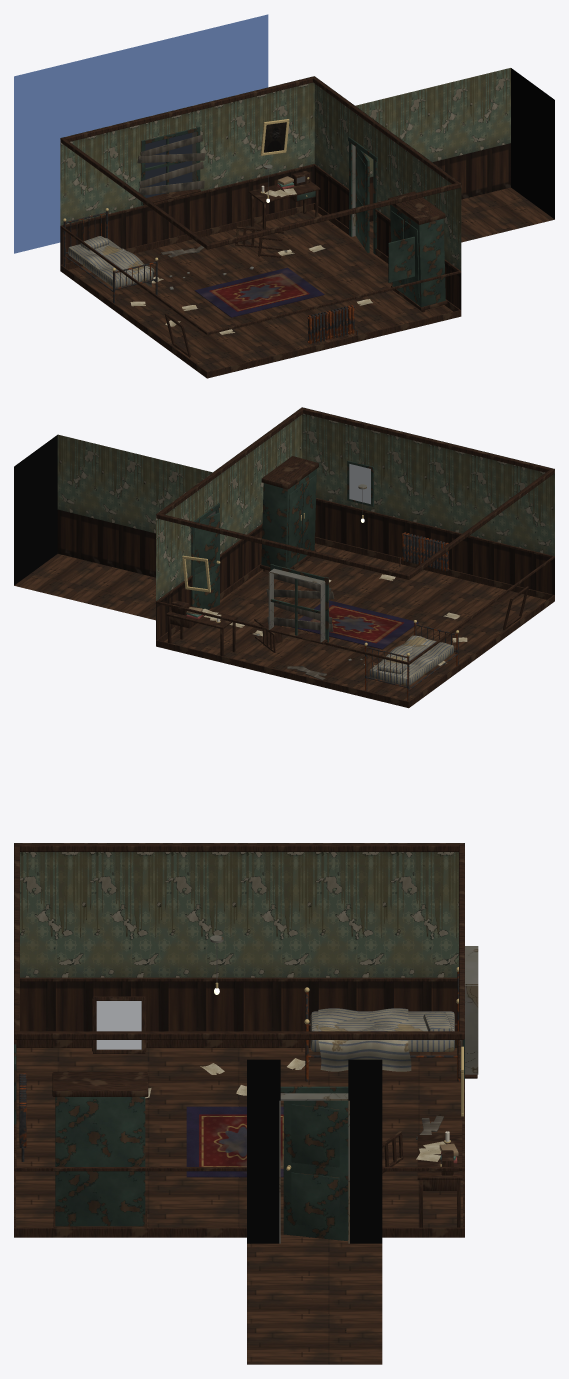
File: horror_room.web.glb
The picture shows the model from 3 angles, top to bottom: view 1: azimuth 30°, elevation 25°; view 2: azimuth 150°, elevation 25°; view 3: azimuth 270°, elevation 25°; orthographic projection. The views are drawn at different scales.
Visible parts, largest first — view 1: Window, Floor, Wall_Back, Hallway, Trim, Wall_Right, Wardrobe, Rug, Bed, Window_Boards, Radiator, Door (+7 smaller); view 2: Wall_Front, Hallway, Floor, Trim, Wall_Right, Wardrobe, Bed, Rug, Window, Door, Window_Boards, Radiator (+5 smaller); view 3: Wall_Left, Floor, Hallway, Trim, Wardrobe, Door, Bed, Rug, Frame_Fallen, Window, Desk, Door_Frame (+2 smaller).
Boxes of the visible parts, x1=… form: Window: x1=14, y1=14, x2=268, y2=253; Floor: x1=68, y1=210, x2=452, y2=375; Wall_Back: x1=60, y1=76, x2=314, y2=264; Hallway: x1=353, y1=68, x2=554, y2=251; Trim: x1=60, y1=76, x2=461, y2=378; Wall_Right: x1=314, y1=76, x2=461, y2=309; Wardrobe: x1=388, y1=191, x2=447, y2=312; Rug: x1=194, y1=267, x2=324, y2=317; Bed: x1=63, y1=208, x2=158, y2=303; Window_Boards: x1=137, y1=135, x2=205, y2=195; Radiator: x1=307, y1=305, x2=357, y2=344; Door: x1=355, y1=147, x2=369, y2=252; Wall_Front: x1=302, y1=407, x2=554, y2=594; Hallway: x1=14, y1=434, x2=212, y2=620; Floor: x1=164, y1=543, x2=547, y2=701; Trim: x1=156, y1=407, x2=554, y2=707; Wall_Right: x1=156, y1=407, x2=301, y2=639; Wardrobe: x1=260, y1=456, x2=318, y2=571; Bed: x1=364, y1=620, x2=458, y2=701; Rug: x1=292, y1=600, x2=418, y2=649; Window: x1=267, y1=564, x2=329, y2=644; Door: x1=194, y1=512, x2=220, y2=609; Window_Boards: x1=266, y1=574, x2=334, y2=631; Radiator: x1=399, y1=532, x2=449, y2=571; Wall_Left: x1=14, y1=843, x2=464, y2=1031; Floor: x1=16, y1=1048, x2=462, y2=1237; Hallway: x1=247, y1=1059, x2=382, y2=1364; Trim: x1=14, y1=843, x2=464, y2=1237; Wardrobe: x1=52, y1=1072, x2=148, y2=1227; Door: x1=283, y1=1100, x2=348, y2=1240; Bed: x1=304, y1=967, x2=460, y2=1081; Rug: x1=186, y1=1106, x2=283, y2=1177; Frame_Fallen: x1=92, y1=996, x2=146, y2=1053; Window: x1=458, y1=946, x2=478, y2=1080; Desk: x1=417, y1=1135, x2=462, y2=1227; Door_Frame: x1=279, y1=1086, x2=349, y2=1243.
Bounding box in the file's own units: 10.4 × 4.02 × 7.2.
Materials: 23 (12 with a texture image).
